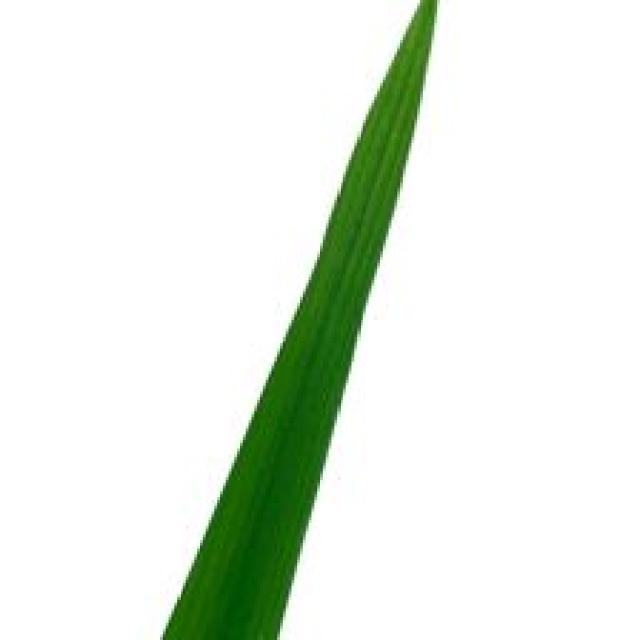Rice___Healthy_Rice_Plant: (158, 0, 439, 637)
